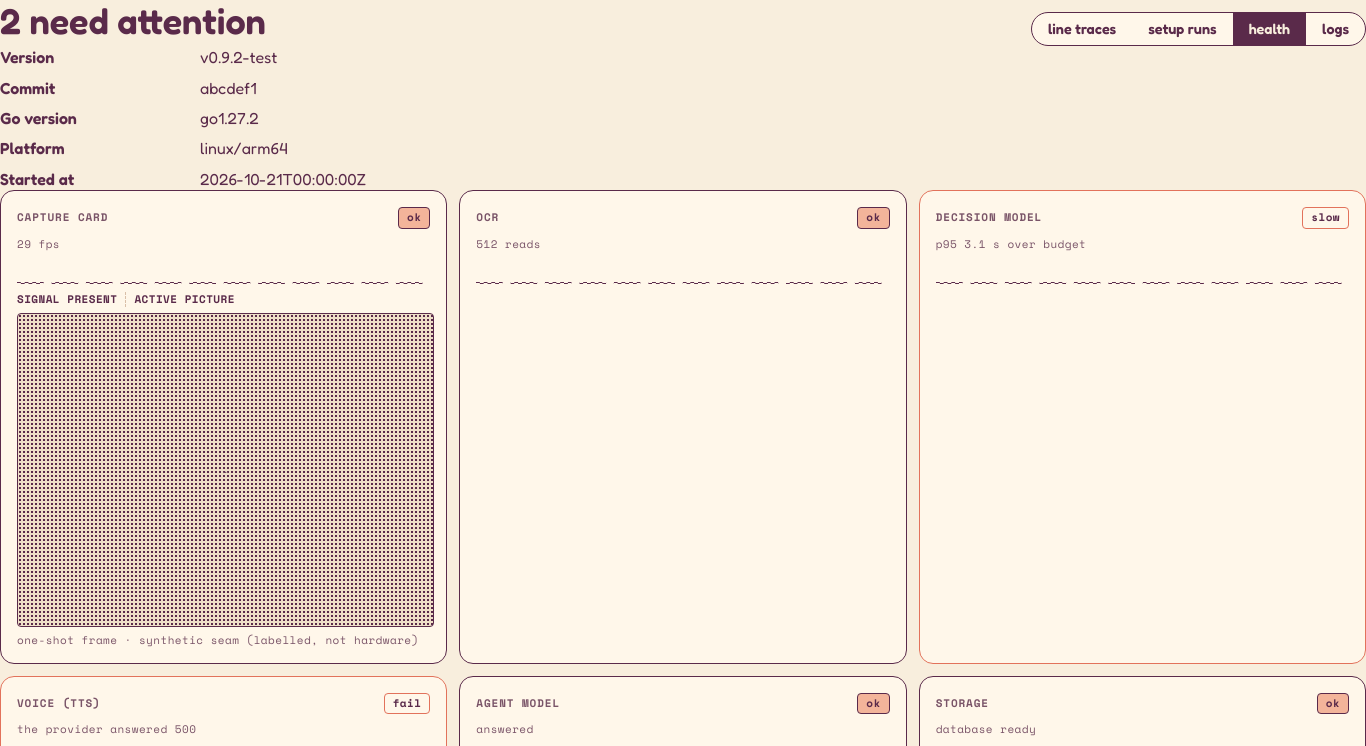
it: HealthPage (unit test with a stubbed feed and fetch fake) › the tabs switch to logs, setup runs and line traces
This screenshot has width=1366, height=746.
// logs: the preserved tail (the signed-in principal reads the ring).
Press the mouse on the tab "logs" at [1336, 29], box [1306, 13, 1365, 45]
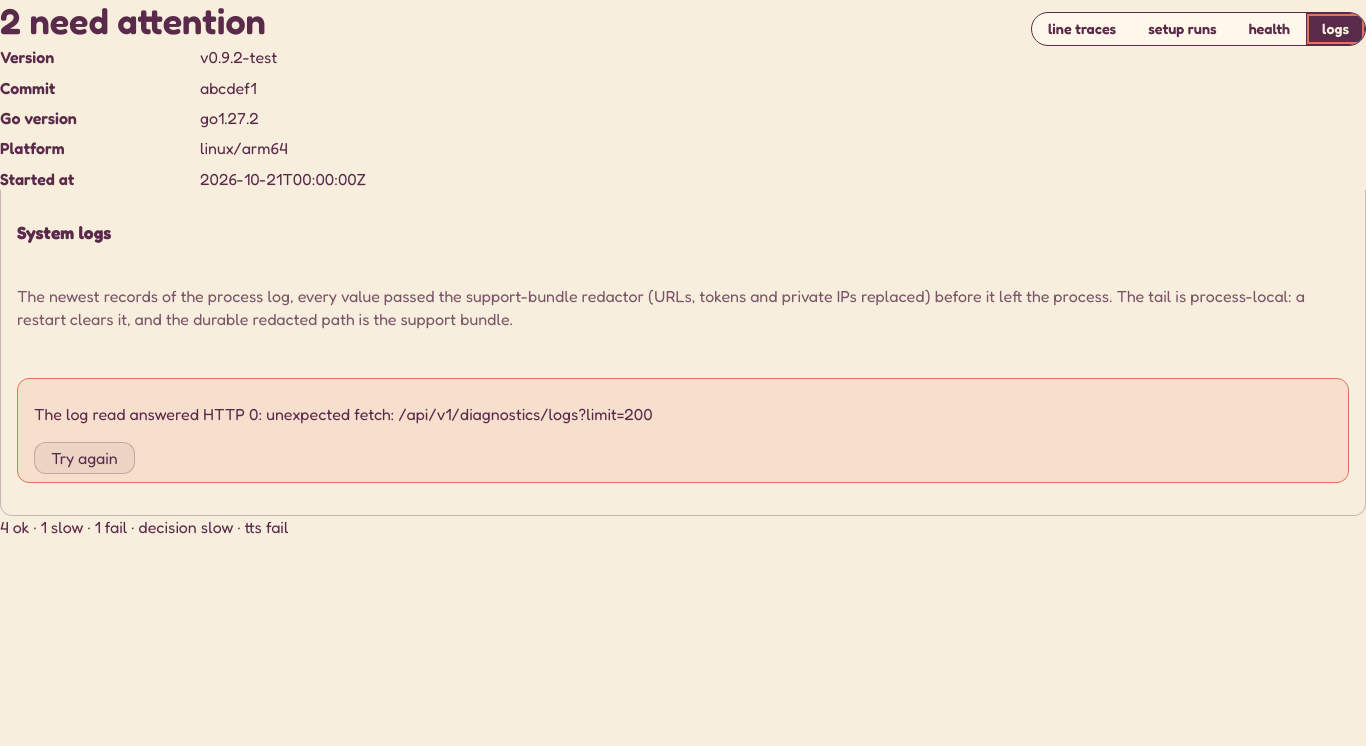
Result: the element with test id "system-logs" is shown at [0, 190, 1365, 516]
Press the mouse on the tab "setup runs" at [1182, 29], box [1132, 13, 1233, 45]
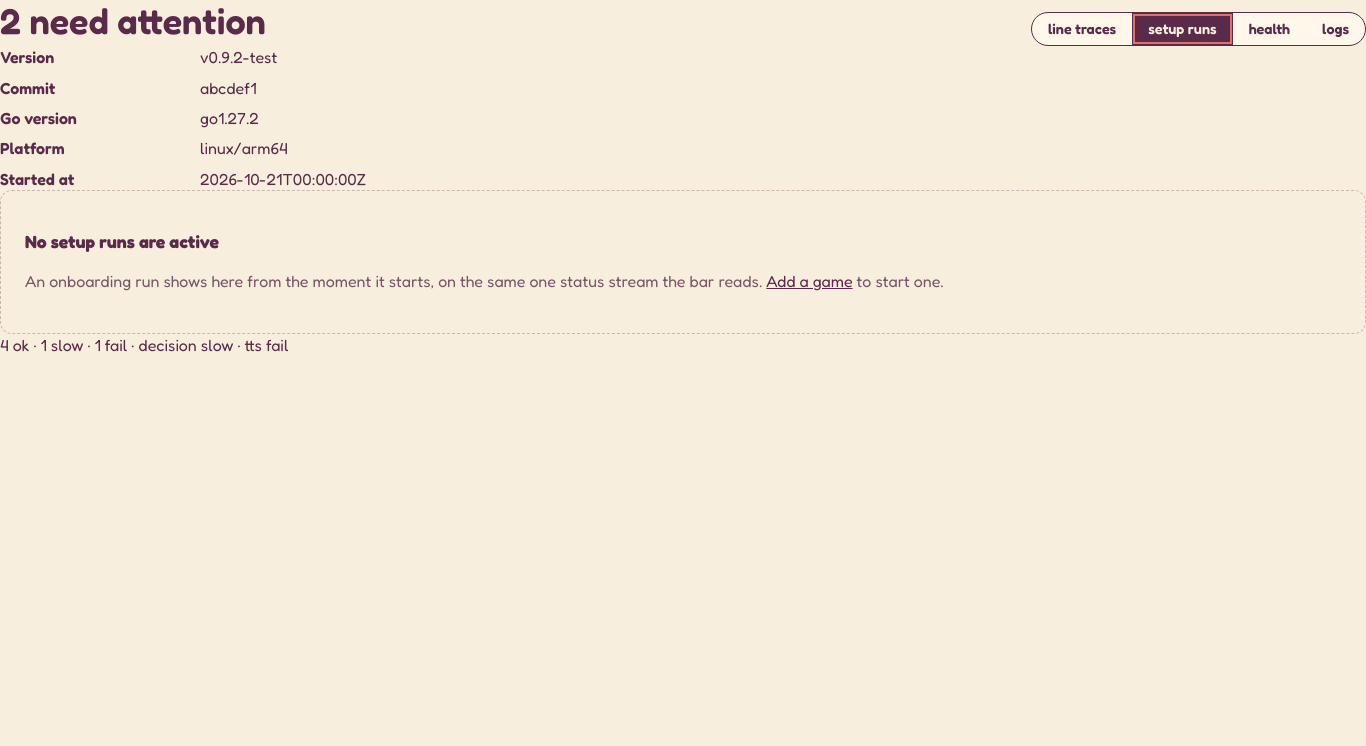
Result: the element with test id "health-setup-runs-empty" is shown at [0, 190, 1365, 334]
// line traces: no session in the fixture — the honest pointer.
Press the mouse on the tab "line traces" at [1082, 29], box [1032, 13, 1132, 45]
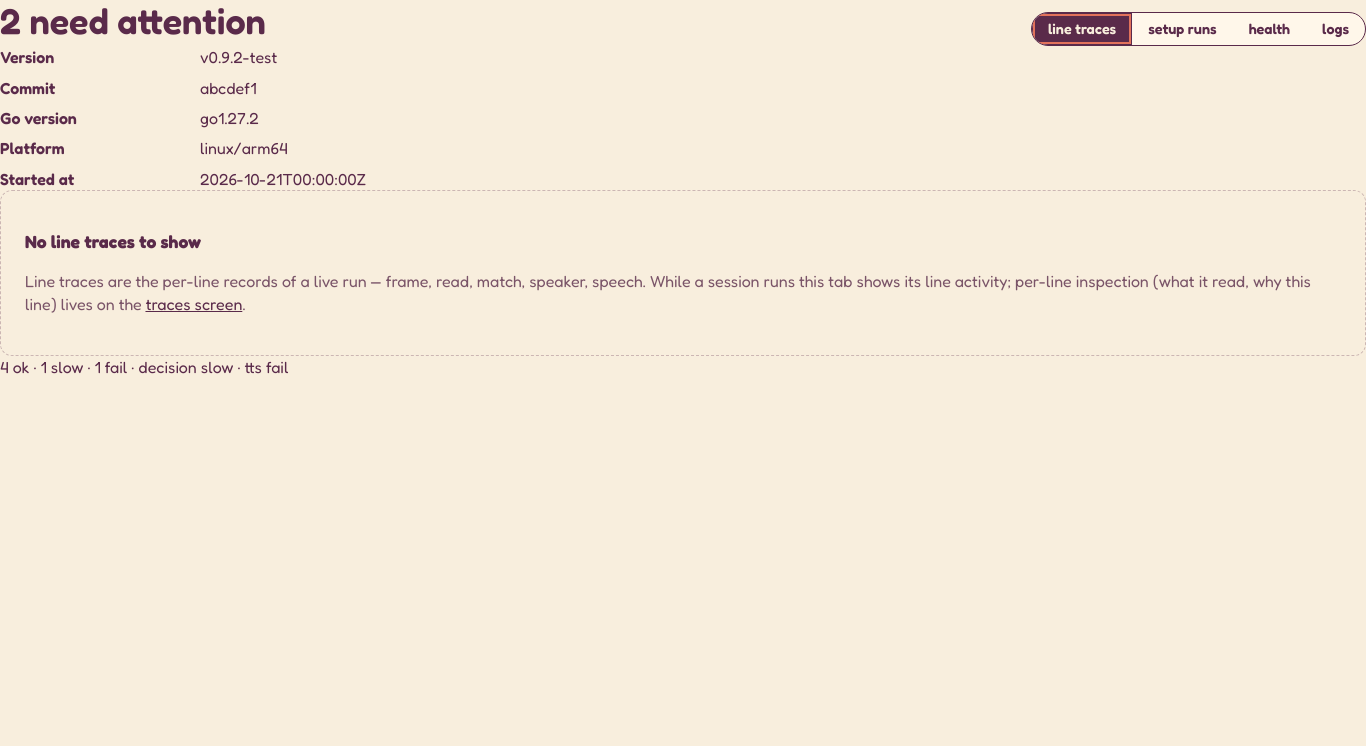
Result: the element with test id "health-line-traces-empty" is shown at [0, 190, 1365, 356]
